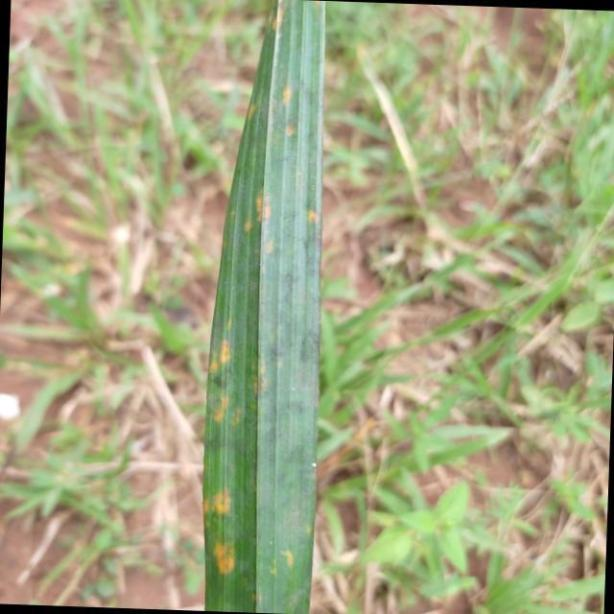Kalium: (195, 0, 331, 614)
